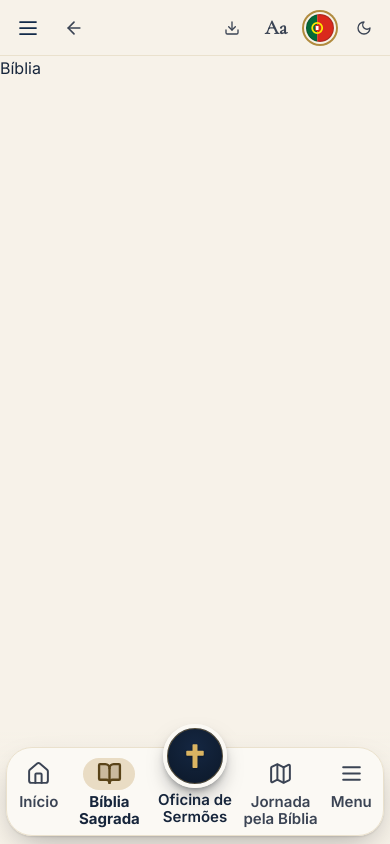
Test case: Menu do celular em cartõezinhos › o hambúrguer do topo abre a mesma folha de cartõezinhos (não o menu lateral antigo)
This screenshot has width=390, height=844.
Click the button named "Menu": (28, 28) [4,4,52,52]
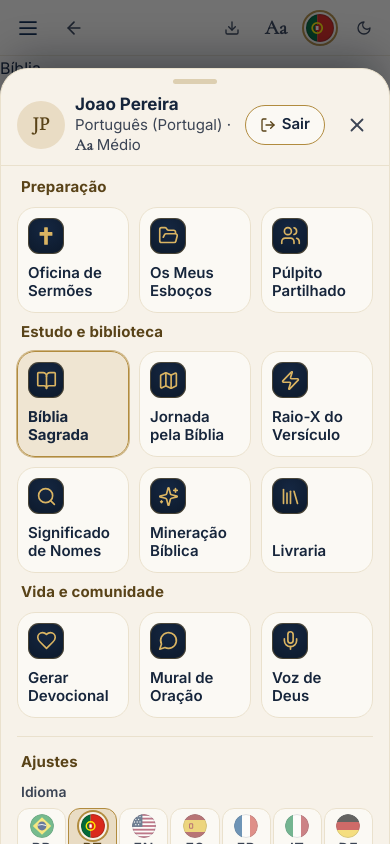
Expected: the number of links with class "msheet-card" is 12
Expected: the button "Menu" is expanded, [322,754,381,829]
Expected: the button named "Menu" is expanded, [4,4,52,52]
